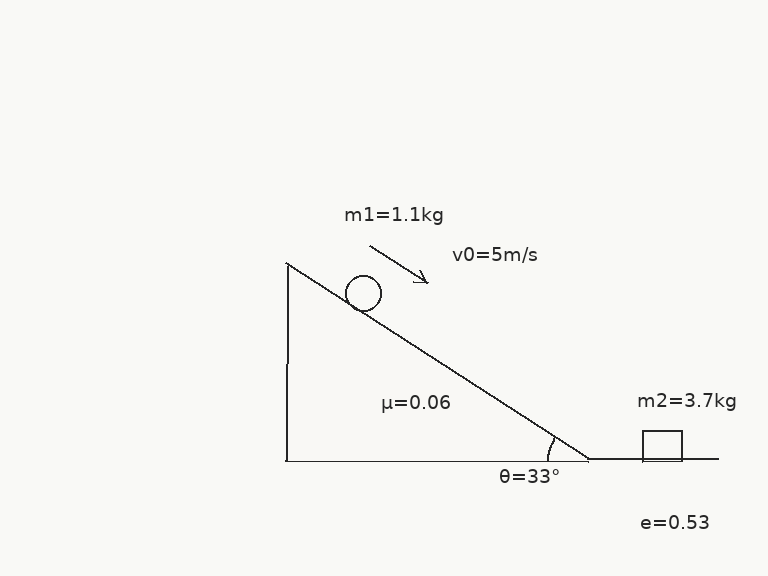ball: (343, 273, 383, 313)
block: (640, 429, 684, 462)
ramp: (284, 262, 590, 462)
